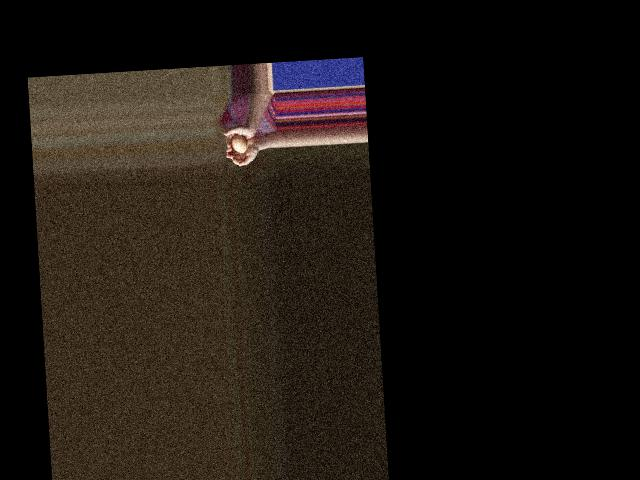egg: (230, 134, 247, 153)
